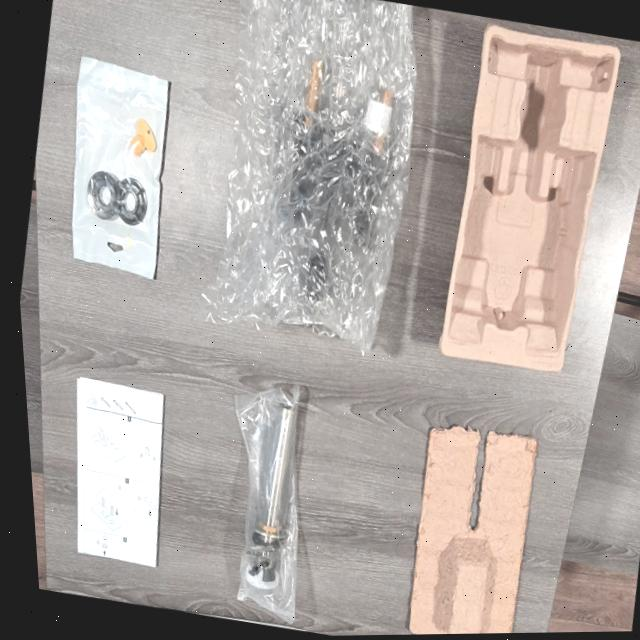11: (234, 385, 304, 623)
12: (71, 56, 168, 278)
8: (75, 377, 163, 567)
9c: (201, 0, 415, 353)
